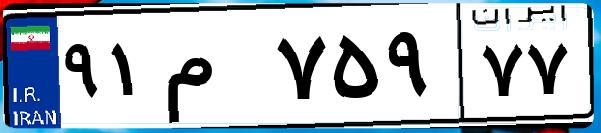1: (110, 28, 158, 98)
5: (330, 28, 385, 110)
7: (270, 28, 330, 110), (475, 38, 525, 113), (525, 38, 570, 115)
9: (385, 28, 445, 110), (57, 26, 110, 100)
م: (158, 20, 270, 120)
